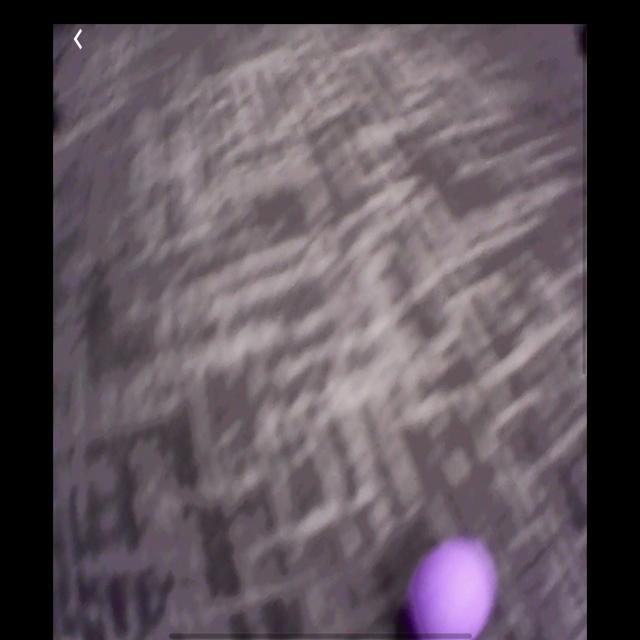ball: (404, 535, 500, 639)
